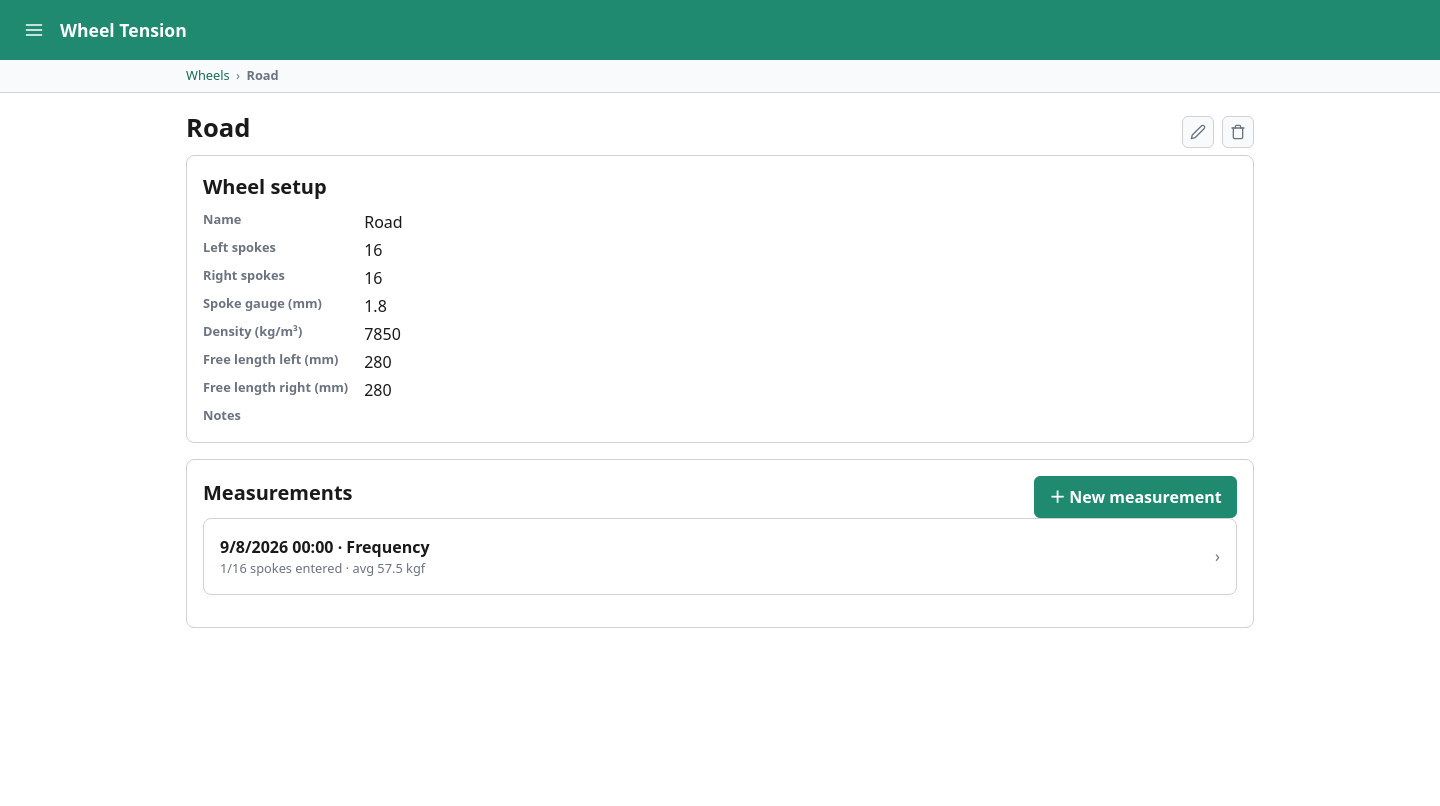
Test case: WheelDetailPage › navigates to the measurement page when a measurement is clicked
What coordinates should you click on to do the following:
click the text "9/8/2026 00:00 · Frequency"
I would click on:
 (325, 546)
Its box is x1=220 y1=534 x2=430 y2=558.
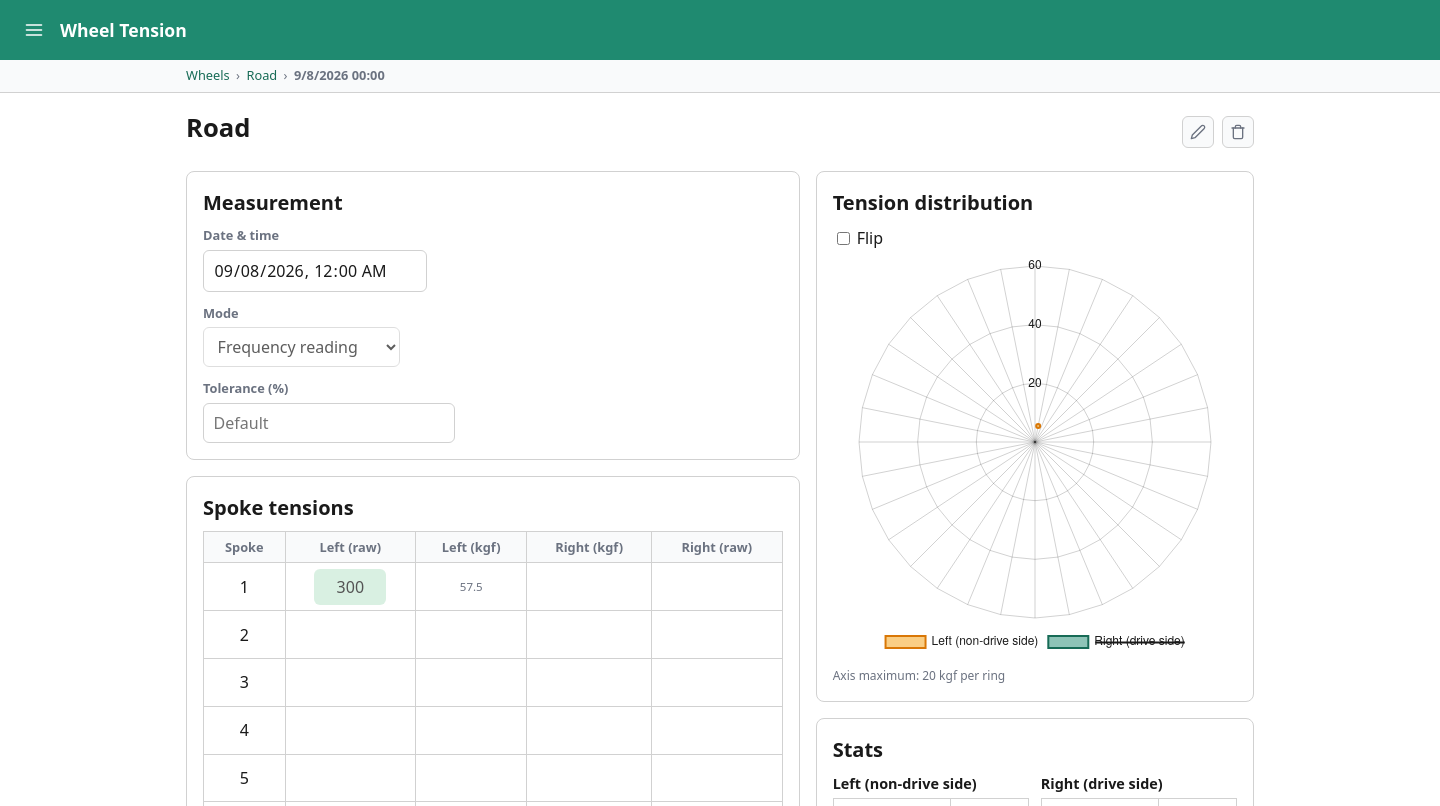
Expected: the text "Mode" is shown, x1=203 y1=304 x2=239 y2=322
